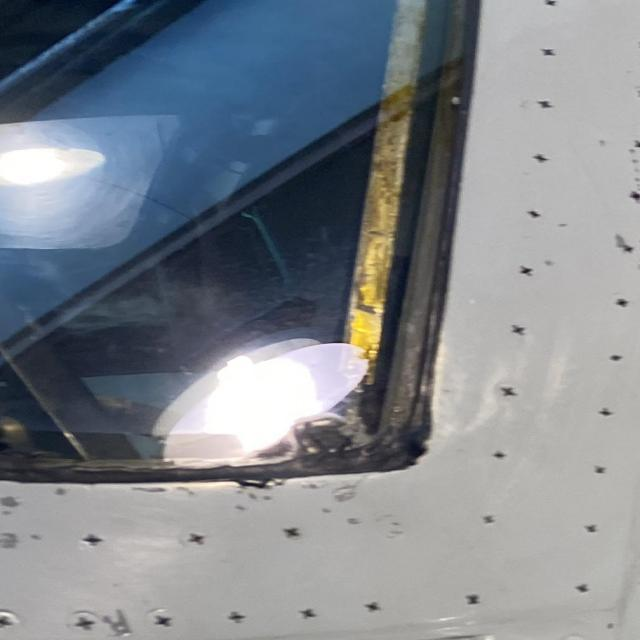Paint-off: (100, 609, 130, 634), (0, 493, 20, 517)
